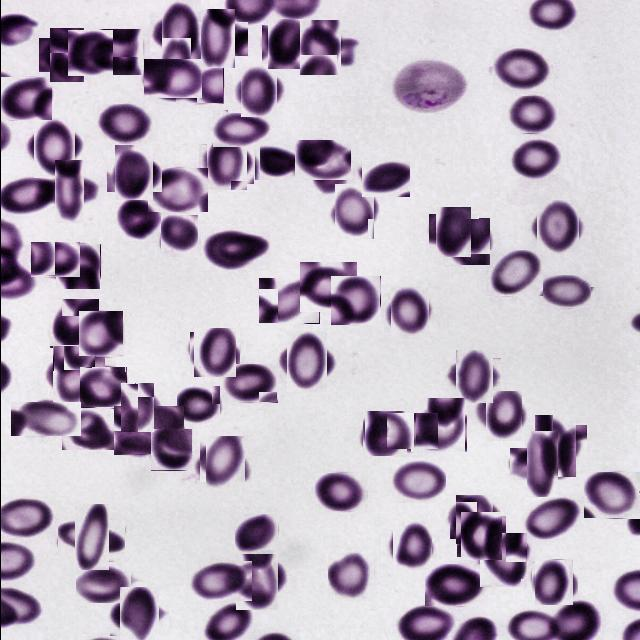red blood cell: (411, 398, 465, 452), (200, 228, 269, 270), (299, 262, 356, 312), (258, 278, 319, 324), (522, 497, 584, 542), (529, 420, 581, 472), (155, 6, 207, 58), (230, 554, 282, 606), (47, 351, 99, 403), (492, 48, 553, 92), (583, 472, 640, 519), (424, 564, 486, 607), (280, 337, 332, 388), (147, 168, 207, 212), (28, 121, 79, 172), (478, 534, 528, 586), (388, 457, 444, 503), (486, 250, 542, 296), (65, 512, 116, 562), (188, 560, 251, 600), (330, 276, 380, 326), (48, 298, 97, 348), (532, 203, 581, 252), (326, 550, 374, 600), (114, 592, 164, 640), (10, 402, 80, 436), (75, 562, 131, 604), (518, 439, 566, 488), (96, 104, 154, 144), (202, 140, 250, 188), (330, 187, 378, 235), (94, 28, 142, 76), (296, 24, 344, 72), (442, 218, 490, 266), (0, 77, 52, 121), (143, 59, 201, 98), (294, 140, 350, 180), (61, 409, 115, 450), (193, 15, 240, 62), (110, 149, 157, 196), (212, 110, 270, 148), (221, 364, 277, 403), (202, 439, 248, 485), (191, 330, 237, 376), (113, 198, 163, 240), (450, 354, 496, 399), (387, 290, 432, 336), (46, 168, 91, 214), (78, 311, 123, 357), (67, 30, 112, 76), (314, 473, 367, 512), (504, 96, 558, 134), (264, 22, 309, 67), (458, 514, 503, 559), (388, 524, 434, 568), (44, 32, 88, 78), (175, 62, 223, 104), (236, 68, 280, 113), (538, 275, 595, 309), (56, 244, 100, 288), (452, 498, 496, 542), (363, 412, 407, 456), (79, 367, 126, 408), (386, 413, 438, 450), (481, 394, 525, 437), (532, 560, 574, 603), (432, 210, 474, 253), (234, 514, 278, 555), (30, 242, 80, 278), (361, 160, 409, 197), (150, 429, 192, 471), (512, 141, 559, 178), (116, 387, 158, 428), (176, 386, 220, 425), (254, 144, 300, 181), (159, 216, 199, 256)
trophozoite: (390, 59, 469, 112), (113, 406, 184, 455)
